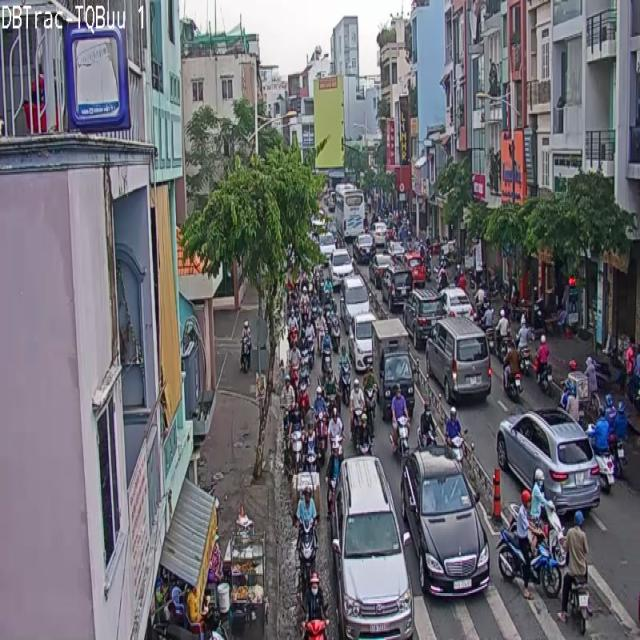car: (498, 491, 564, 596), (298, 489, 317, 593), (327, 415, 344, 488)
traffic-light: (333, 455, 414, 639), (402, 449, 490, 596), (496, 410, 599, 513), (426, 317, 491, 404), (341, 276, 369, 331), (349, 313, 374, 373)
truck: (373, 319, 414, 412), (297, 488, 318, 582)
